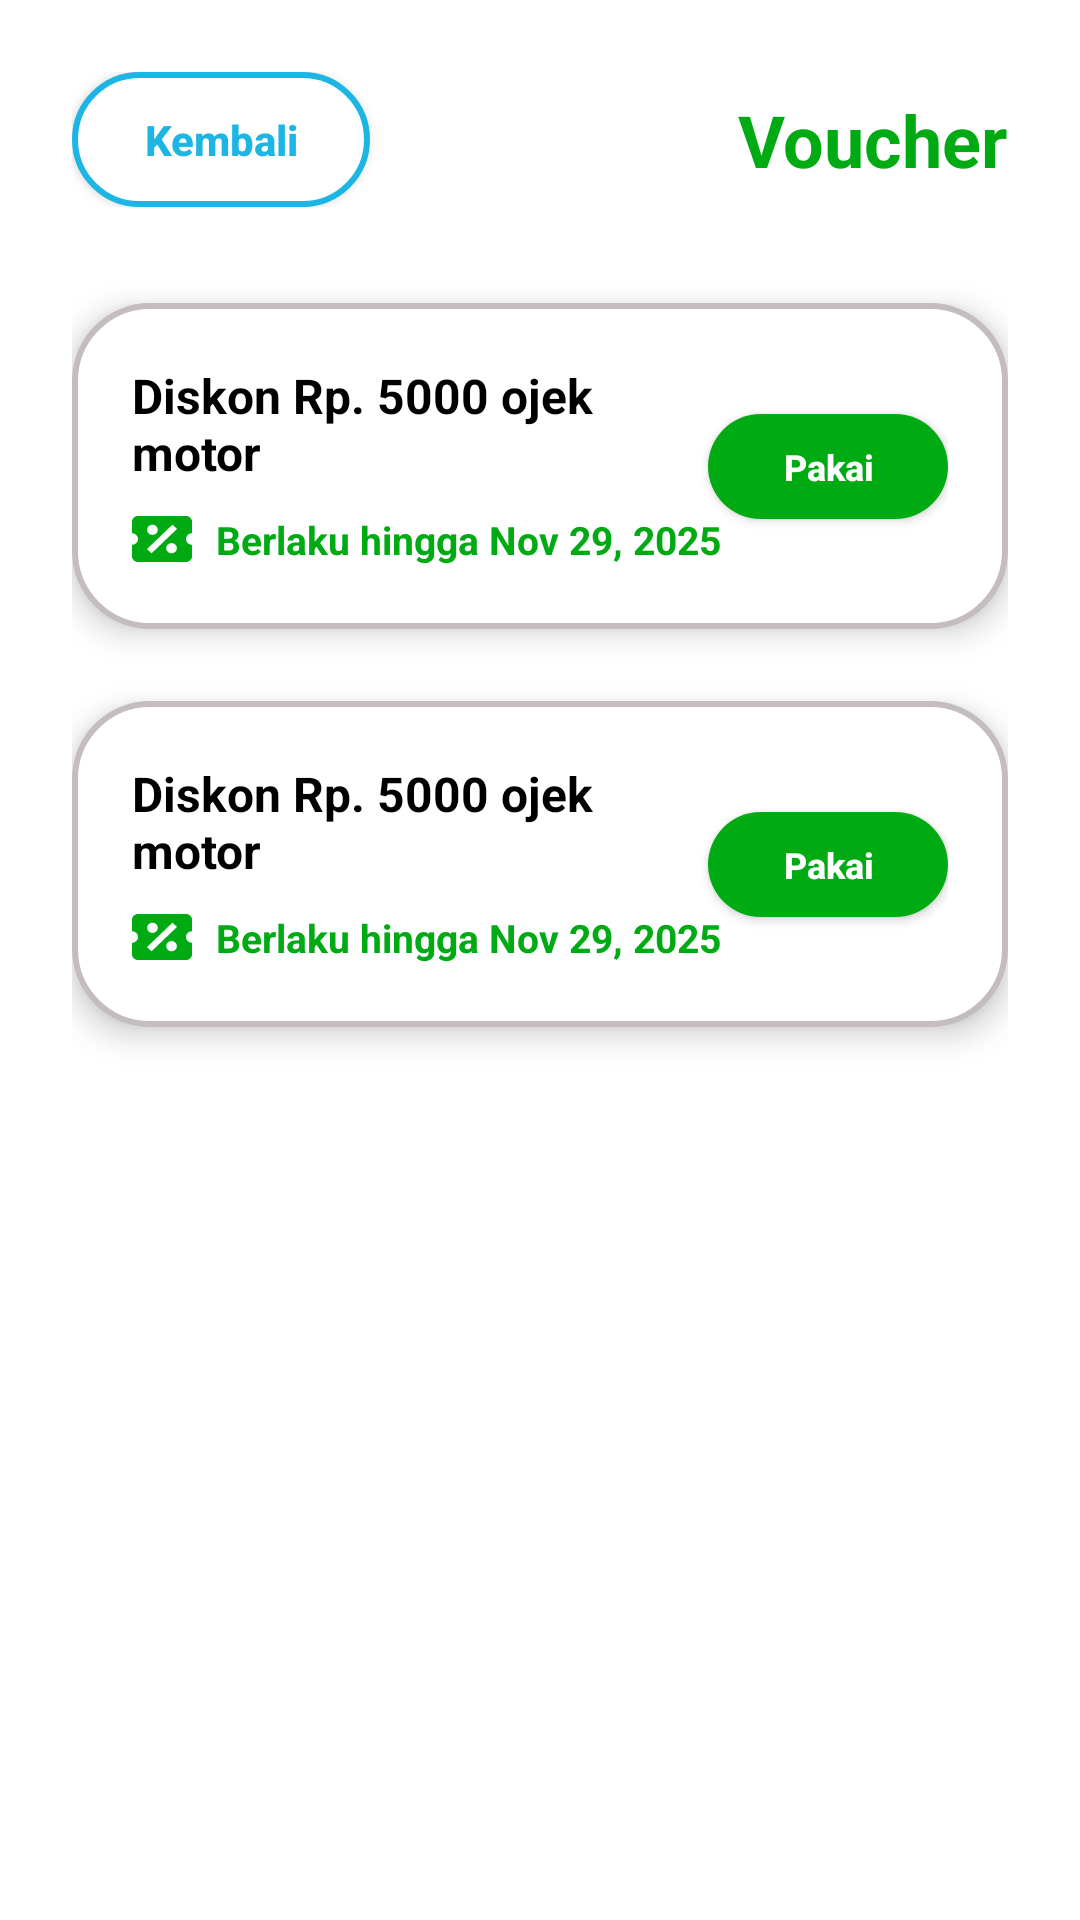

Named icons in this screenshot (1080x1920) and their centers, (x=x, y=y):
voucher: (x=162, y=539), (x=162, y=937)
